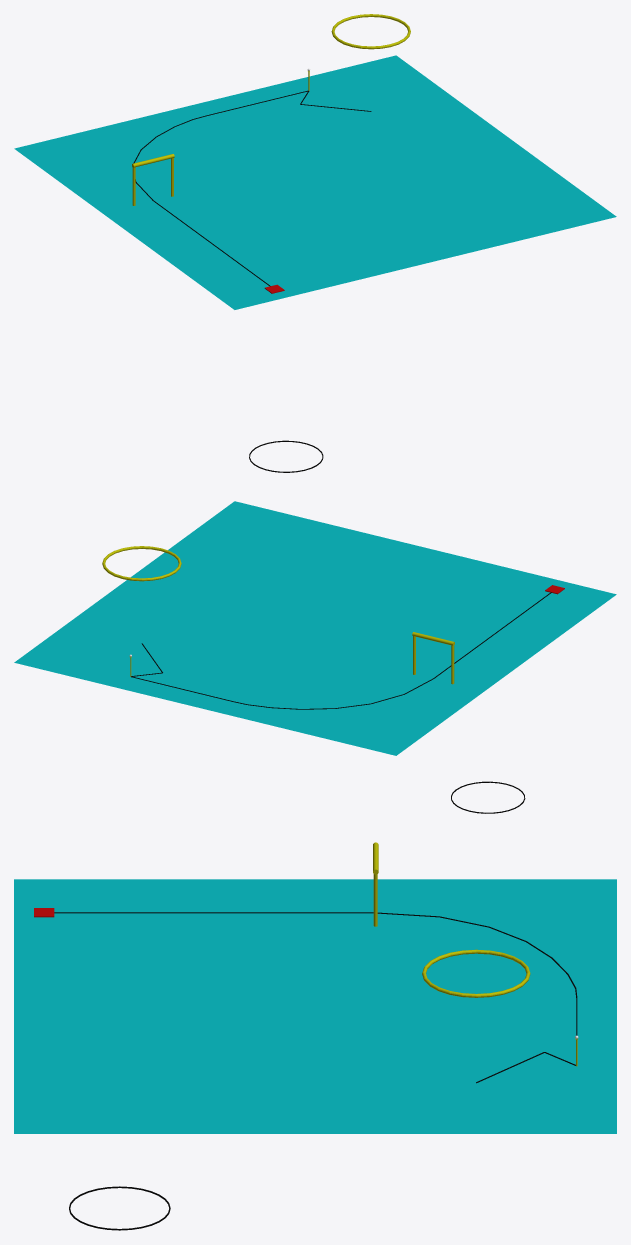
The model's file is singapore_scena.dae.
3 renders of one model, top to bottom at view 1: azimuth 30°, elevation 25°; view 2: azimuth 150°, elevation 25°; view 3: azimuth 270°, elevation 25°, orthographic. The views are drawn at different scales.
Parts seen in each view (by area): view 1: Plane001, Torus001; view 2: Plane001, Torus001; view 3: Plane001, Torus001, Line0010, Circle001.
Boxes of the visible parts, x1,y1,x2,y2 form: Plane001: (14,55,616,309); Torus001: (331,14,410,49); Plane001: (14,501,616,755); Torus001: (102,546,181,581); Plane001: (14,879,616,1133); Torus001: (422,949,530,997); Line0010: (54,912,373,913); Circle001: (69,1186,170,1230).
Size of the model in its own units: 30 by 30 by 20.9.
